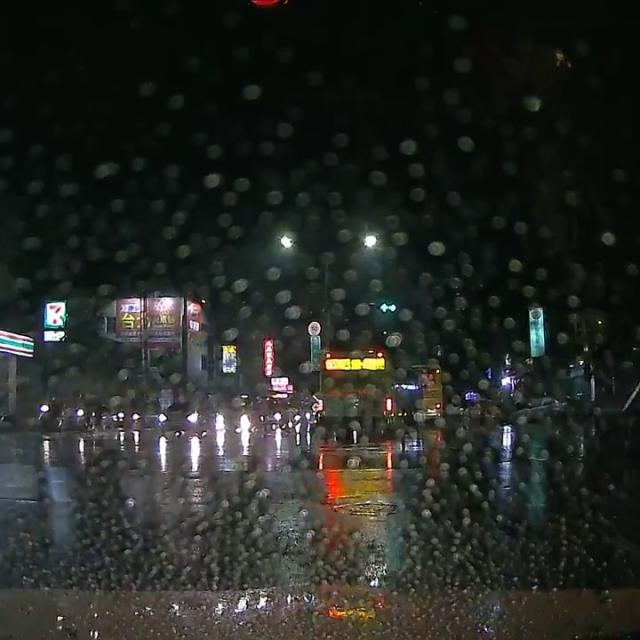Car: (156, 397, 216, 434), (211, 396, 256, 435)
